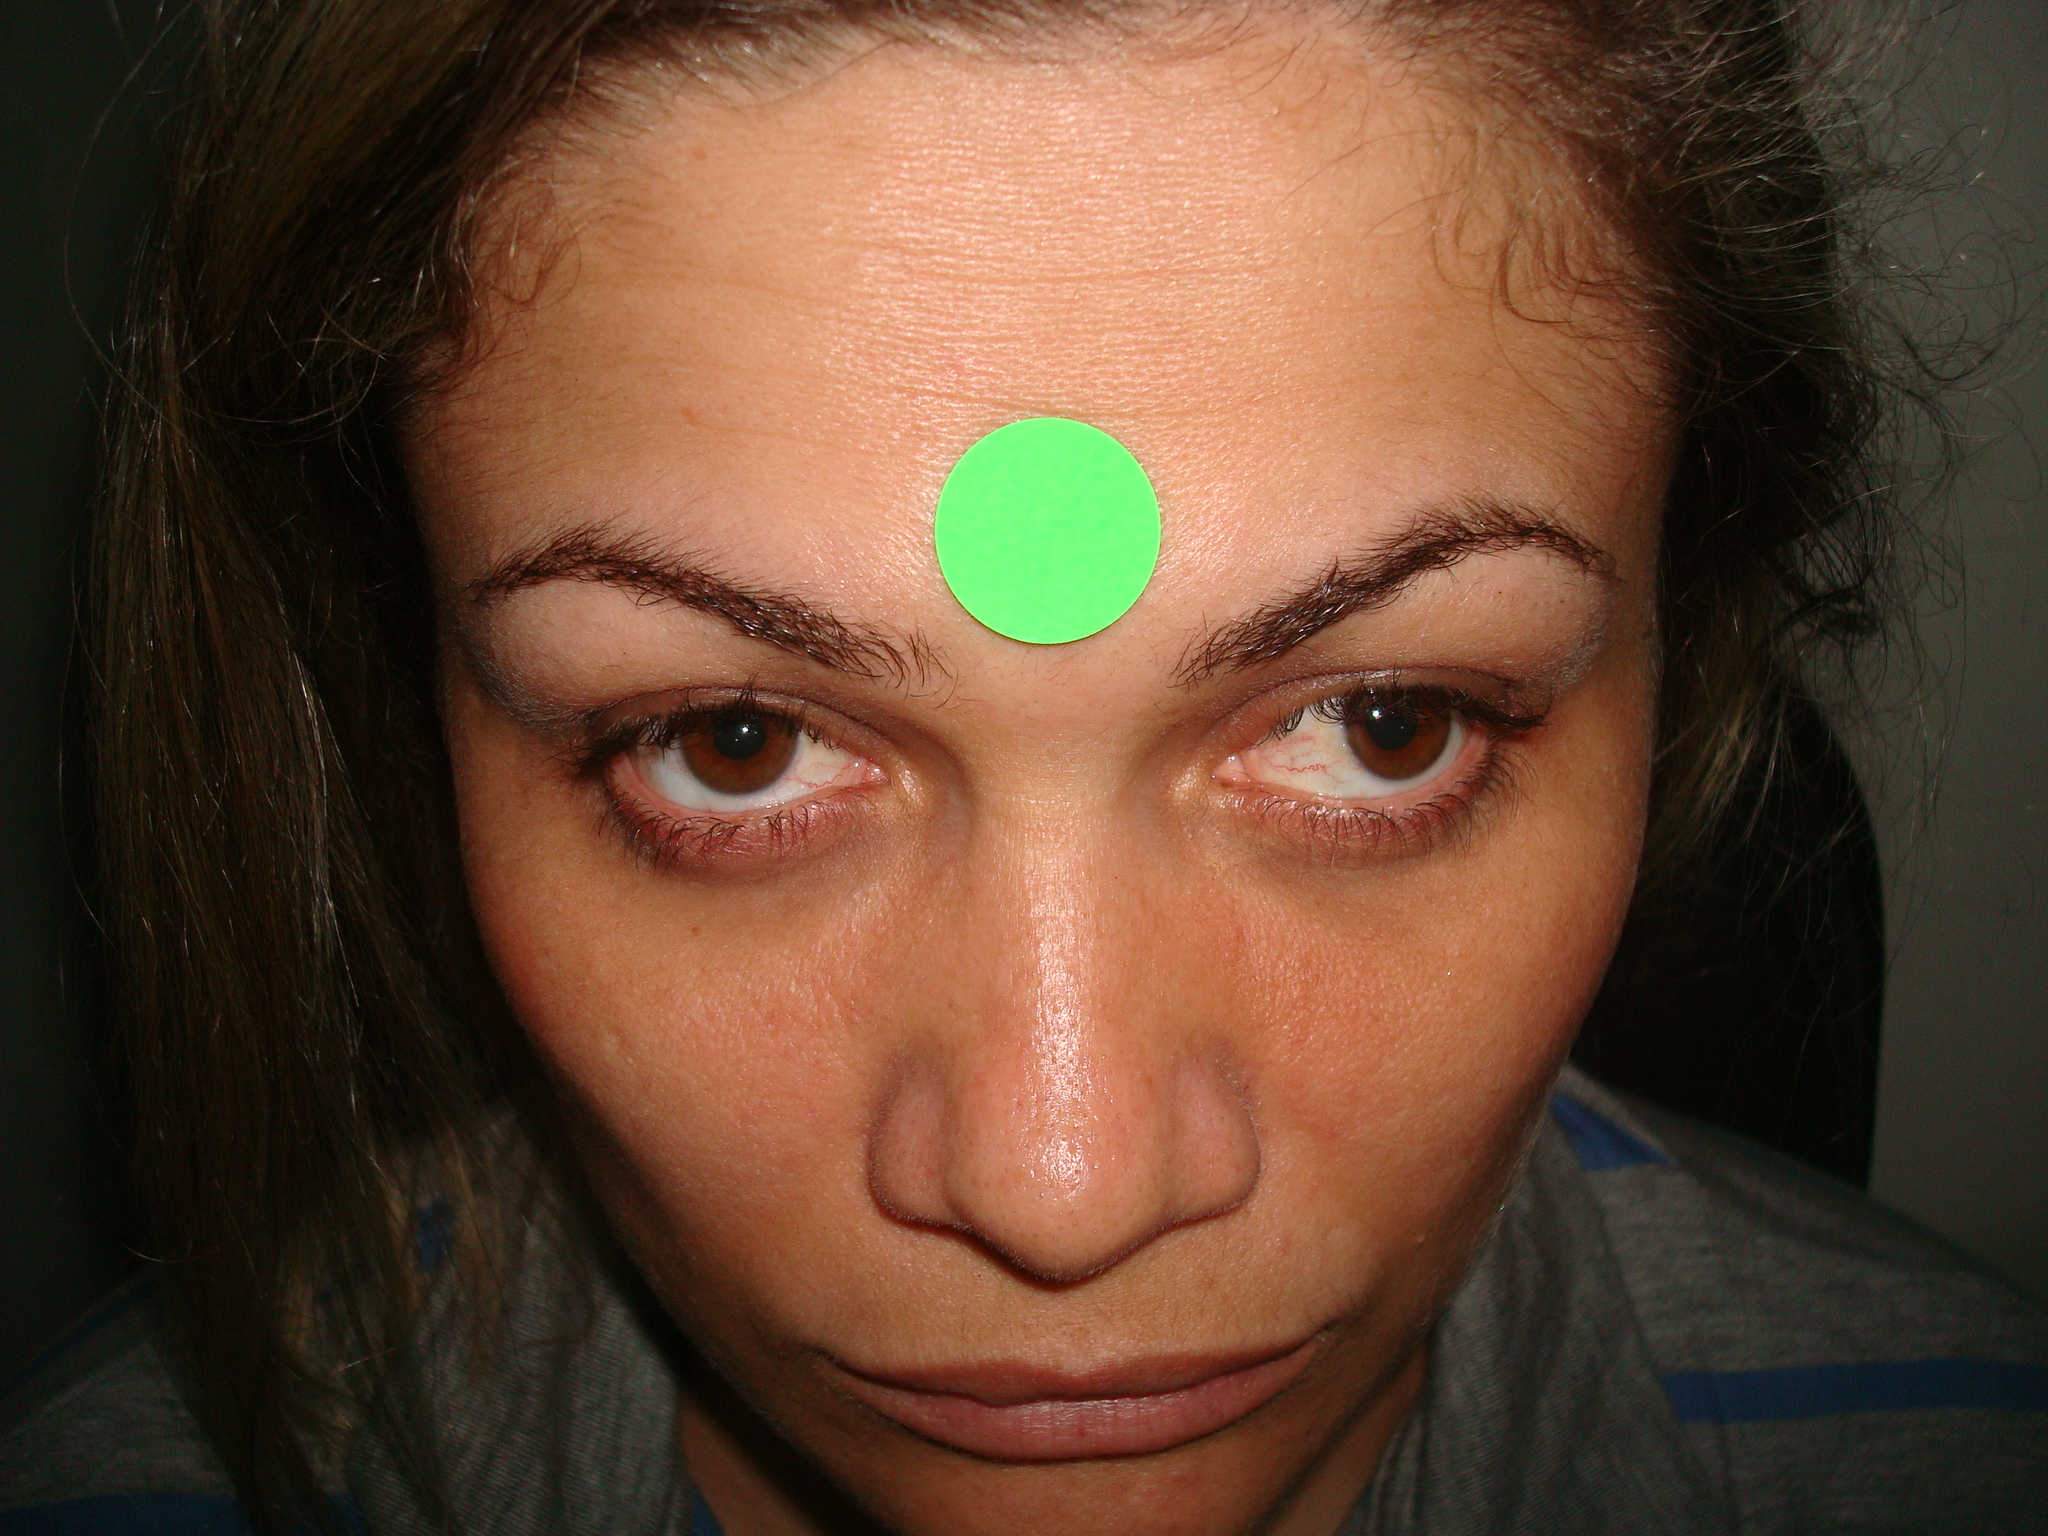flash: (1369, 707, 1384, 723), (739, 723, 750, 737)
limbo: (681, 679, 795, 797), (1334, 671, 1453, 779)
